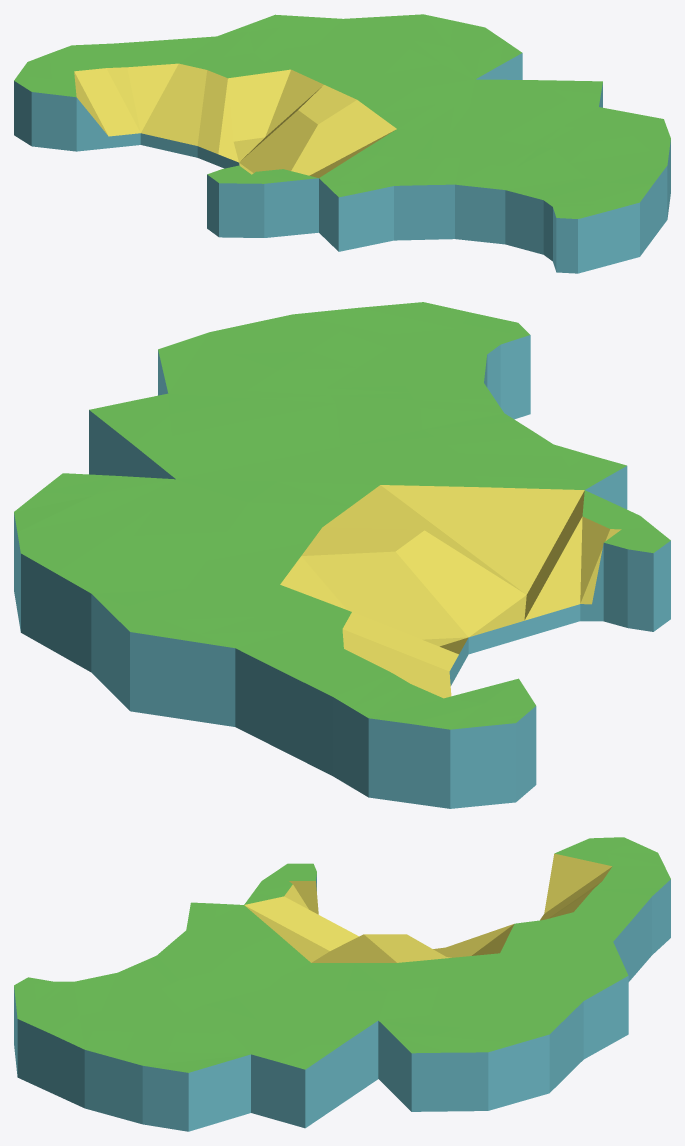
The model's file is island.glb.
3 views of the same model, one above another, from view 1: azimuth 30°, elevation 25°; view 2: azimuth 150°, elevation 25°; view 3: azimuth 270°, elevation 25° (orthographic). The views are drawn at different scales.
Visible parts, largest first — view 1: Island; view 2: Island; view 3: Island.
Boxes of the visible parts, x1=… form: Island: x1=14, y1=14, x2=670, y2=273; Island: x1=14, y1=302, x2=670, y2=808; Island: x1=14, y1=837, x2=670, y2=1131.
Size of the model in its own units: 86.46 by 10.09 by 102.
